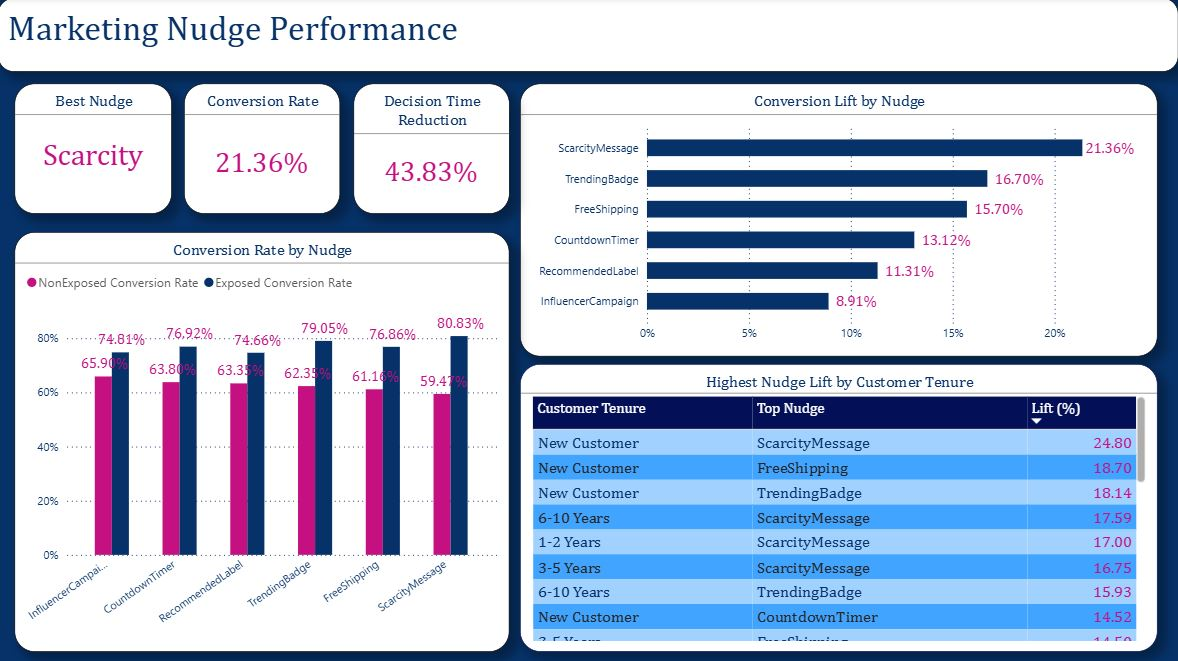

What the dashboard file says about the page in this screenshot:
{"tool":"powerbi","page":{"name":"Marketing Nudge Performance","canvas":[1280,720],"ordinal":1},"visuals":[{"type":"textbox","box":[0,0,1280.1,79.7],"z":0},{"type":"clusteredBarChart","fields":{"Category":["NudgeAnalysis.Nudge"],"Y":["NudgeAnalysis.Conversion Lift"]},"box":[566,92.7,691.3,296],"z":1000},{"type":"textbox","title":"Best Nudge","box":[17.9,92.7,170.8,141.5],"z":2000},{"type":"card","title":"Conversion Rate","fields":{"Values":["NudgeAnalysis.Highest Conversion Lift"]},"box":[201.7,92.7,169.2,141.5],"z":3000},{"type":"card","title":"Decision Time Reduction","fields":{"Values":["NudgeAnalysis.Scarcity Decision Time Reduction"]},"box":[385.5,92.7,169.2,141.5],"z":4000},{"type":"clusteredColumnChart","title":"Conversion Rate by Nudge","fields":{"Category":["NudgeAnalysis.Nudge"],"Y":["NudgeAnalysis.NonExposed Conversion Rate","NudgeAnalysis.Exposed Conversion Rate"]},"box":[17.9,253.7,536.8,455.4],"z":5000},{"type":"tableEx","title":"Highest Nudge Lift by Customer Tenure","fields":{"Values":["NudgeLiftByTenure.Years_As_Customer_Range","NudgeLiftByTenure.Nudge","Sum(NudgeLiftByTenure.NudgeLift)"]},"box":[566,396.9,691.3,312.3],"z":6000}]}

Visuals, with their boxes in screenshot pixels (x1, y1, x2, y2), scaled from the page's 1280x720 canvas onto the 1178x661 screenshot:
textbox: Rect(0, 0, 1177, 73)
clusteredBarChart - NudgeAnalysis.Nudge x NudgeAnalysis.Conversion Lift: Rect(521, 85, 1157, 357)
"Best Nudge" textbox: Rect(16, 85, 174, 215)
"Conversion Rate" card: Rect(186, 85, 341, 215)
"Decision Time Reduction" card: Rect(355, 85, 510, 215)
"Conversion Rate by Nudge" clusteredColumnChart: Rect(16, 233, 510, 651)
"Highest Nudge Lift by Customer Tenure" tableEx: Rect(521, 364, 1157, 651)
